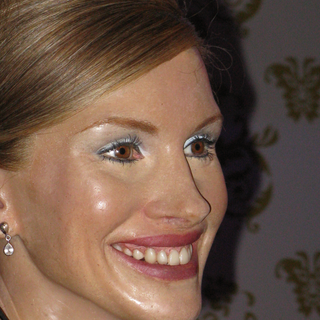eye: (96, 139, 142, 166), (179, 135, 216, 159)
